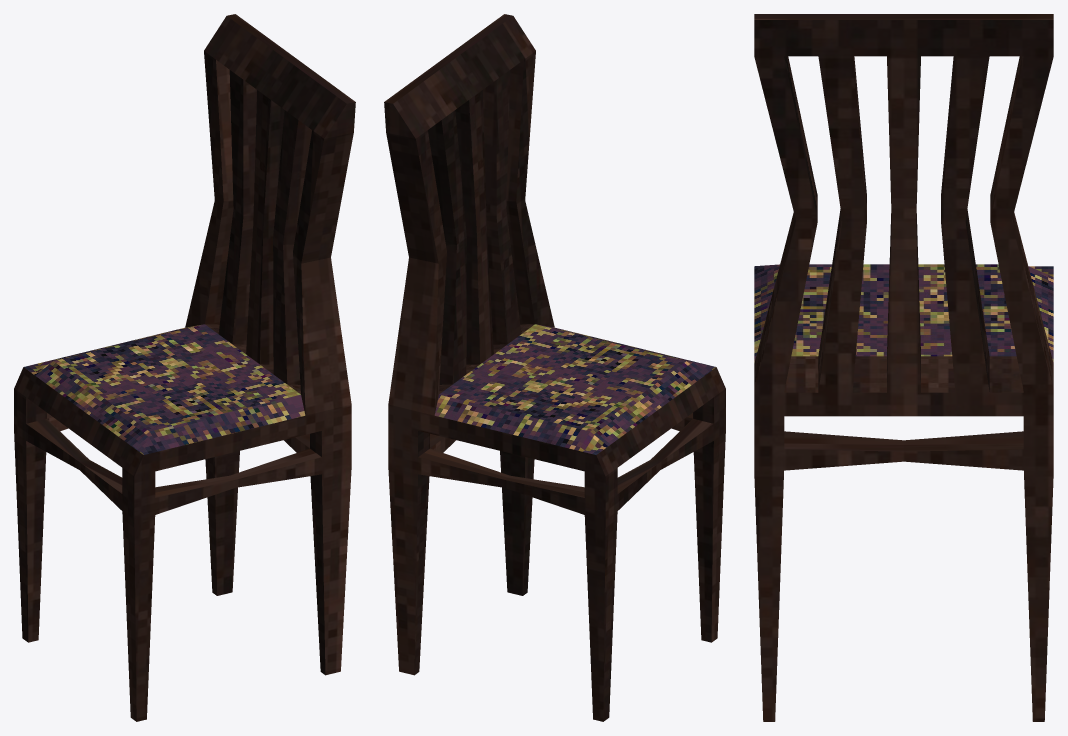
Rendered from Chair.fbx.
3 renders of one model, left to right at view 1: azimuth 30°, elevation 25°; view 2: azimuth 150°, elevation 25°; view 3: azimuth 270°, elevation 25°, orthographic. The views are drawn at different scales.
Visible parts, largest first — view 1: Chair; view 2: Chair; view 3: Chair.
Boxes of the visible parts, box(x1,y1,x2,y2) form: Chair: box(14, 14, 355, 721); Chair: box(384, 14, 725, 721); Chair: box(754, 14, 1053, 721).
Bounding box in the file's own units: 71.8 × 177 × 67.55.
Materials: 2 (2 with a texture image).
